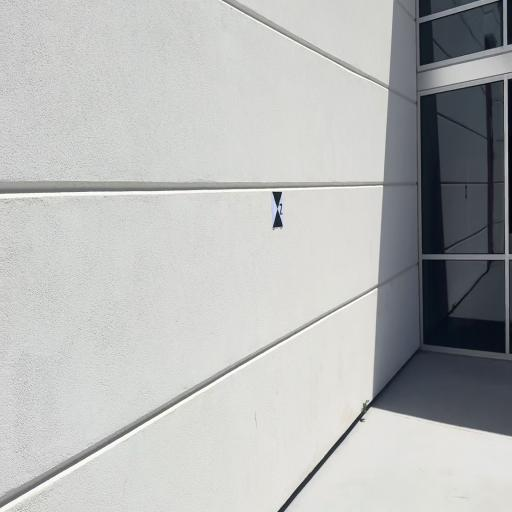target7: (272, 192, 284, 228)
